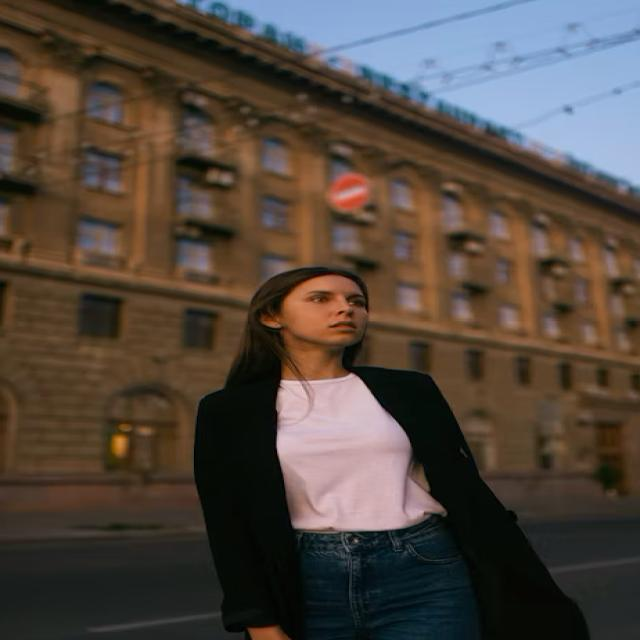Edited images: (185, 248, 570, 640)
